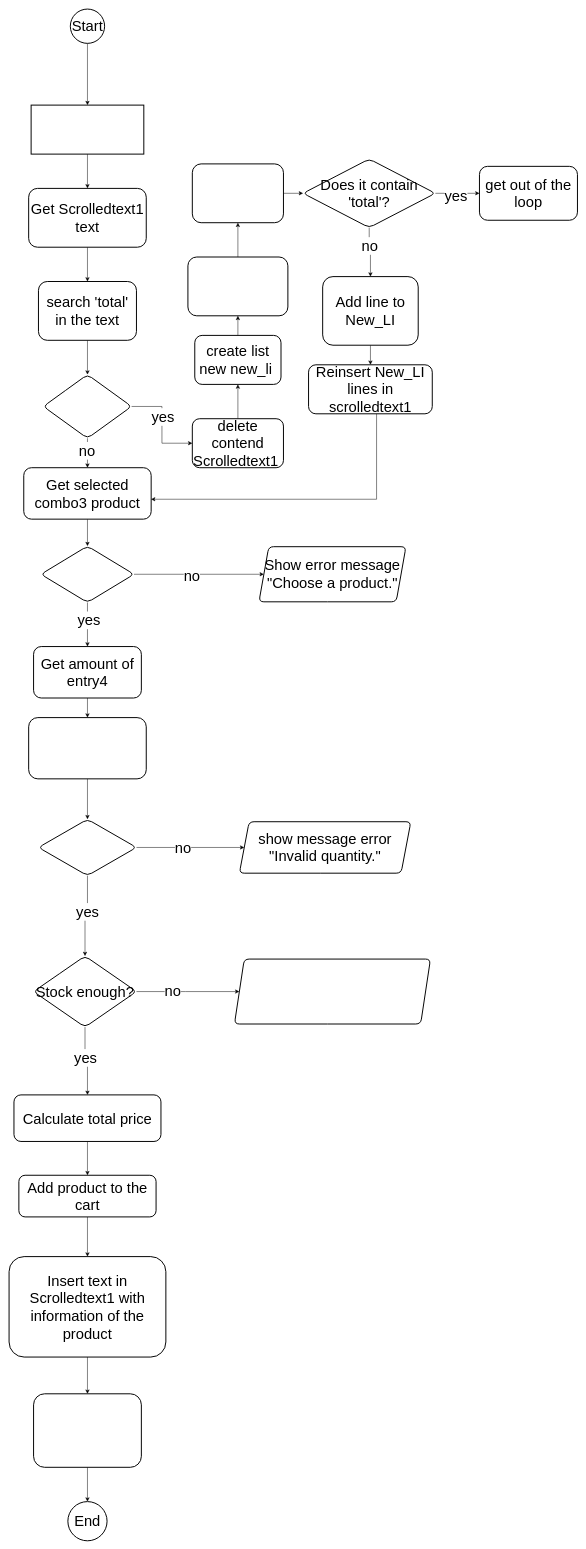
The diagram is 586 pixels wide and 1549 high, and some of its shapes have lost their labels. The centre of each missing label's shape, as x and y in pixels:
'Total' found ==-1?: the point at 87,406
amount is in number?: the point at 87,847
Block scrolledtext1 For editing: the point at 87,1430
Divide text into lines: the point at 237,286
For each line in the text: the point at 238,193
product selected?: the point at 87,574
run query sql to get mrp and stock: the point at 87,748
Show message error "Out of stock. Check quantity.": the point at 332,991
Unlock Scrolledtext1 for edition: the point at 87,129
